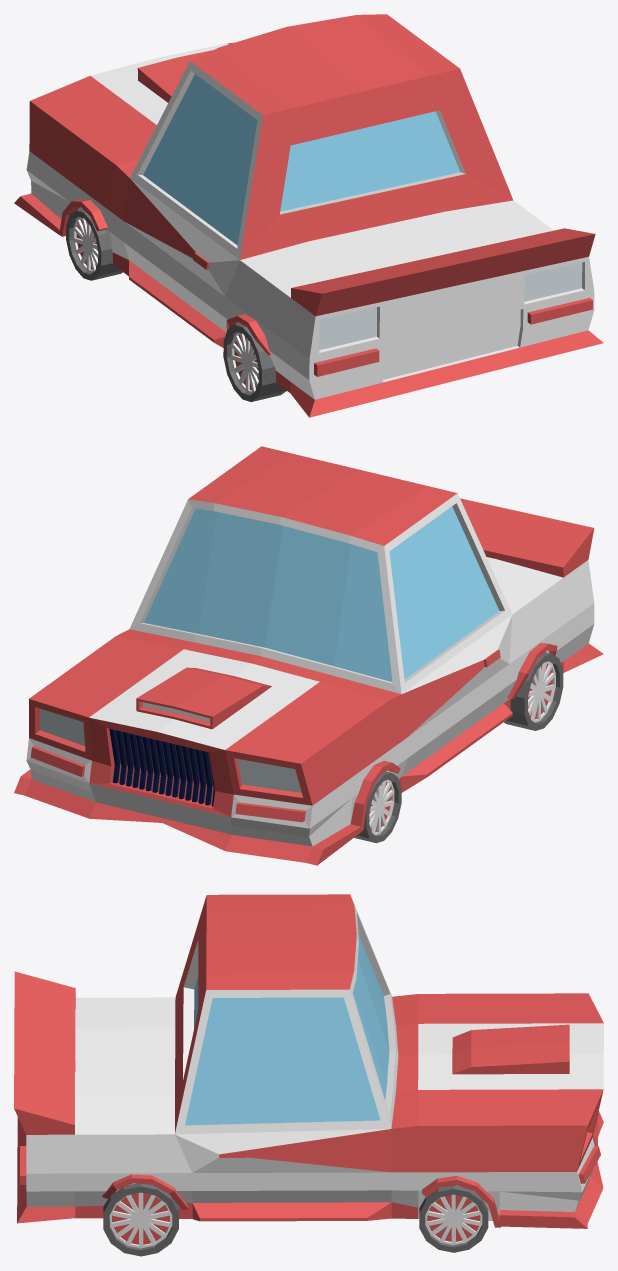
Rendered from Low-Poly-Racing-Car.fbx.
The picture shows the model from 3 angles, top to bottom: view 1: azimuth 30°, elevation 25°; view 2: azimuth 150°, elevation 25°; view 3: azimuth 270°, elevation 25°; orthographic projection. The views are drawn at different scales.
Parts seen in each view (by area): view 1: body, backlight, wheel.1, wheel1.1, front_fender, rear_fender; view 2: body, lattice.1, wheel.1, headlight, wheel1.1, front_fender, rear_fender; view 3: body, wheel.1, wheel1.1, front_fender, rear_fender.
Part boxes in pixels (bbox=[...]): body: bbox=[14, 14, 603, 417]; backlight: bbox=[319, 262, 582, 350]; wheel.1: bbox=[223, 323, 286, 401]; wheel1.1: bbox=[66, 208, 122, 280]; front_fender: bbox=[59, 199, 107, 236]; rear_fender: bbox=[226, 314, 271, 355]; body: bbox=[14, 446, 603, 865]; lattice.1: bbox=[109, 728, 214, 806]; wheel.1: bbox=[504, 652, 563, 730]; headlight: bbox=[40, 708, 301, 792]; wheel1.1: bbox=[354, 771, 401, 843]; front_fender: bbox=[350, 760, 400, 831]; rear_fender: bbox=[507, 643, 557, 699]; body: bbox=[14, 894, 603, 1228]; wheel.1: bbox=[103, 1183, 178, 1256]; wheel1.1: bbox=[419, 1185, 488, 1252]; front_fender: bbox=[422, 1175, 500, 1227]; rear_fender: bbox=[102, 1174, 188, 1210].
Size of the model in its own units: 138 by 237 by 111.
